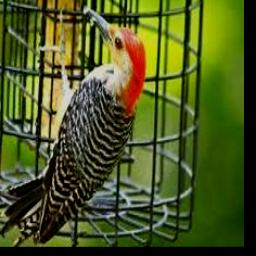Woodpecker: (4, 5, 146, 245)
